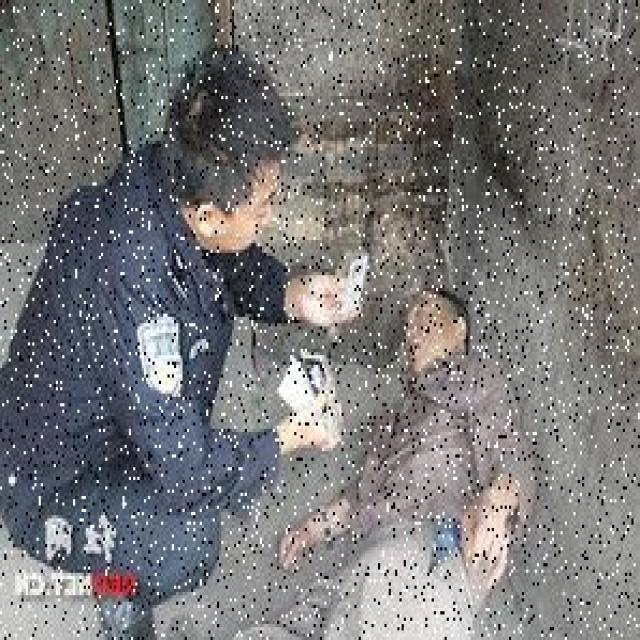fall: (326, 278, 526, 637)
